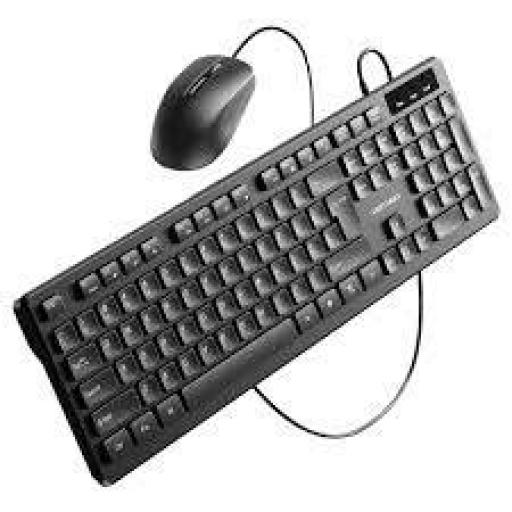KEYBOARD-2: (16, 59, 496, 480)
